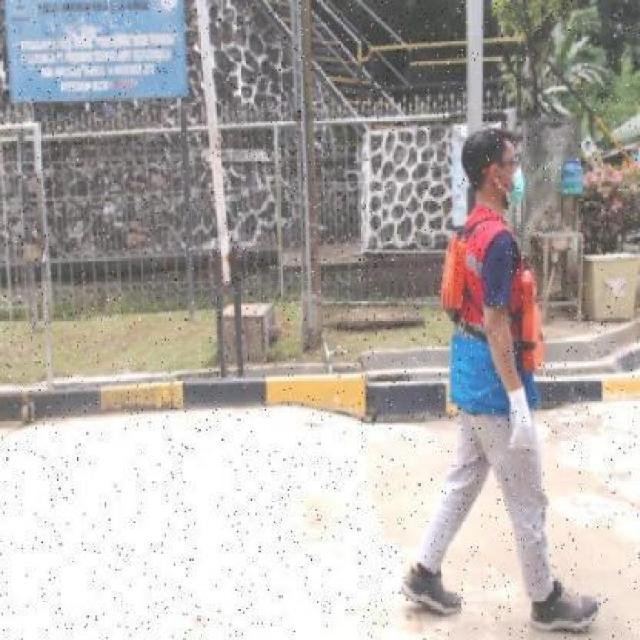Boots: (529, 577, 600, 635), (399, 564, 463, 618)
Gloves: (504, 388, 534, 450)
Mask: (506, 171, 526, 214)
Protective Glasses: (488, 153, 522, 172)
Vest: (440, 231, 548, 374)
